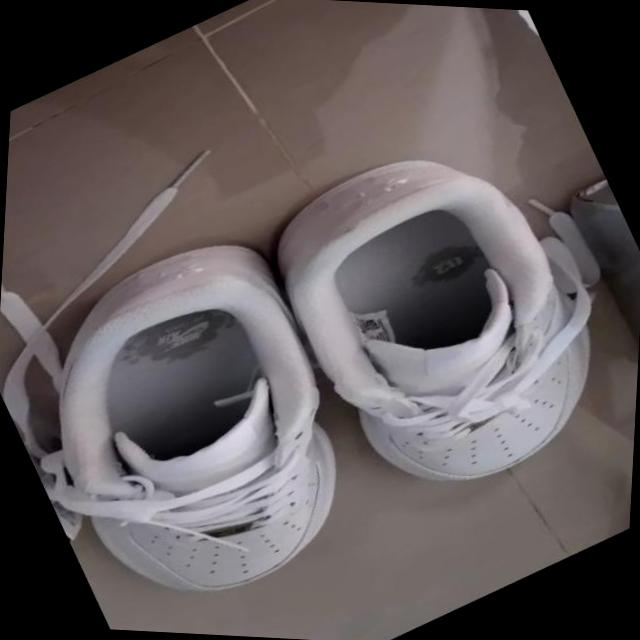nike_fake_airforce: (216, 77, 640, 550), (0, 203, 406, 640)
